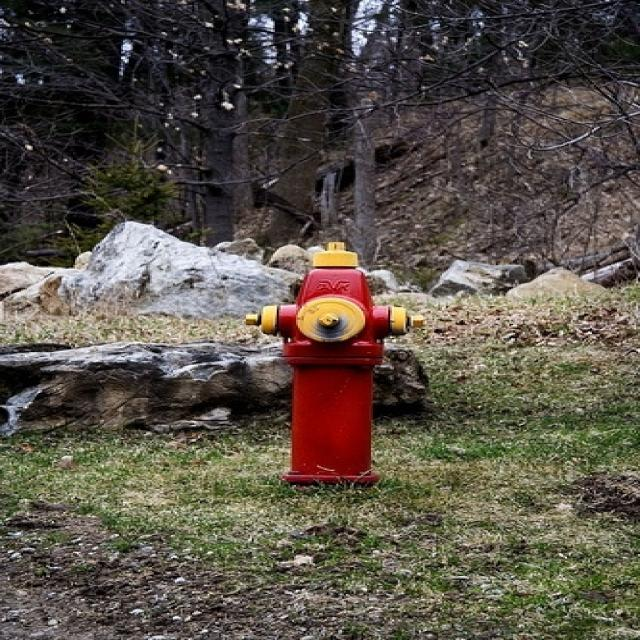fire_hydrant: (184, 213, 523, 546)
